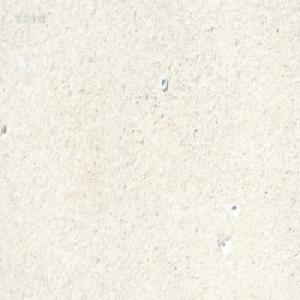Washer: (159, 76, 167, 90)
